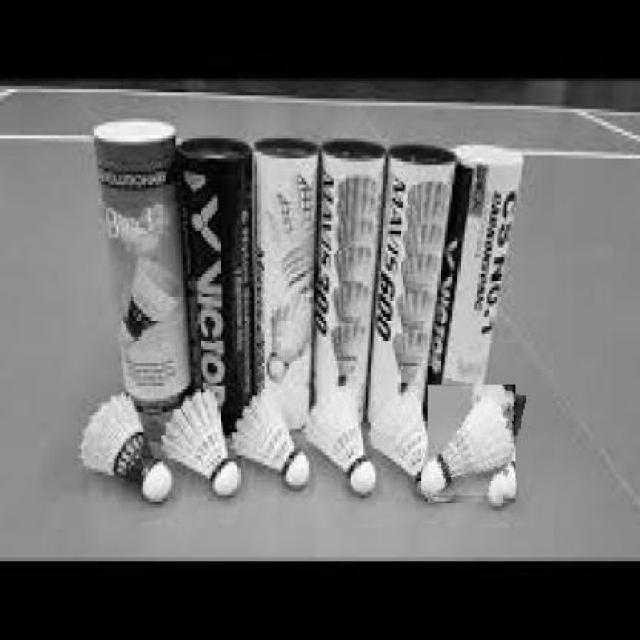Shuttlecock: (421, 385, 512, 494)
